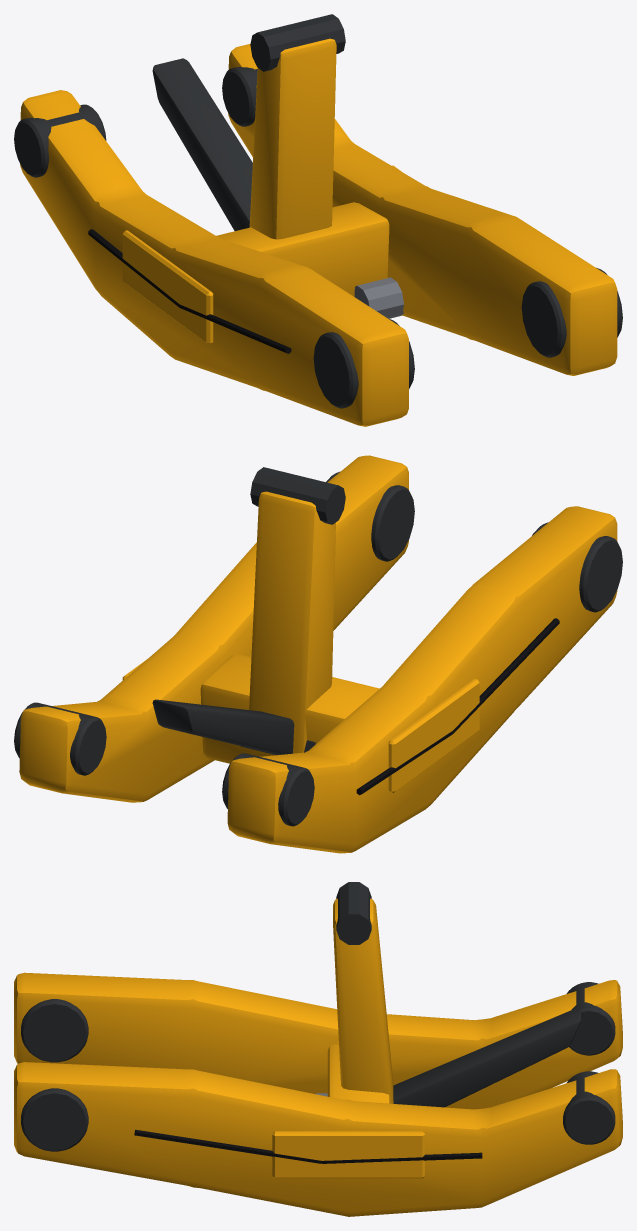
The model's file is arm.glb.
3 renders of one model, top to bottom at view 1: azimuth 30°, elevation 25°; view 2: azimuth 150°, elevation 25°; view 3: azimuth 270°, elevation 25°, orthographic. The views are drawn at different scales.
Visible parts, largest first — view 1: Arm; view 2: Arm; view 3: Arm.
Boxes of the visible parts, x1,y1,x2,y2 form: Arm: [14, 14, 622, 426]; Arm: [14, 455, 622, 853]; Arm: [14, 882, 622, 1216].
Bounding box in the file's own units: 2.18 × 2.31 × 4.79.
